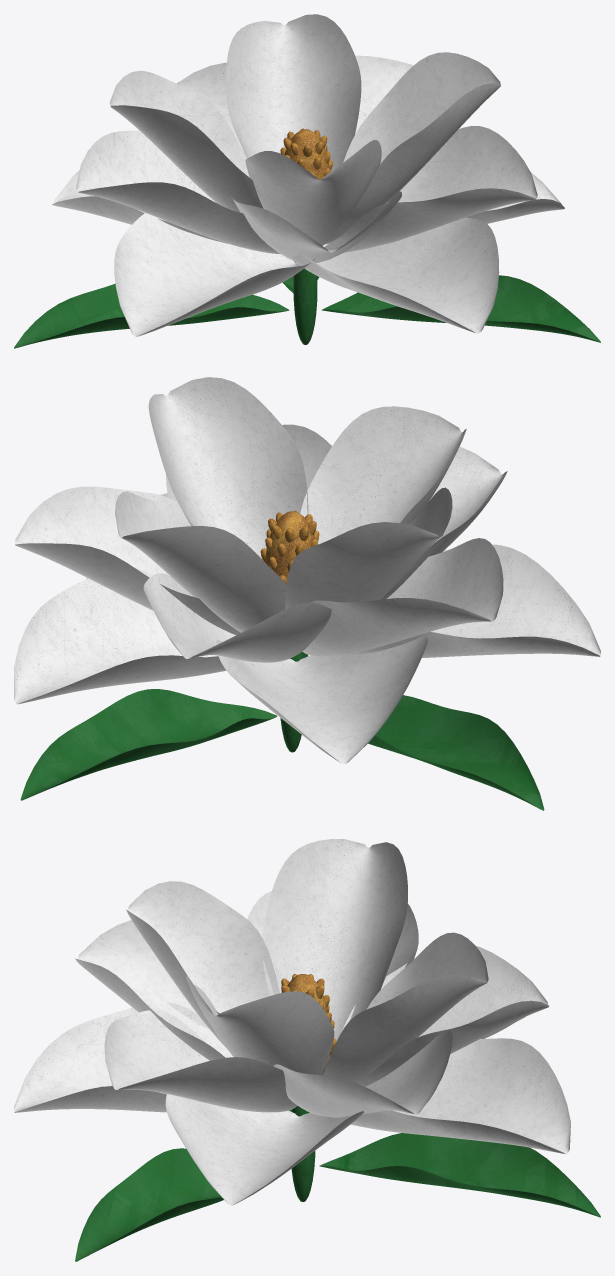
The model's file is asset.glb.
3 renders of one model, top to bottom at view 1: azimuth 30°, elevation 25°; view 2: azimuth 150°, elevation 25°; view 3: azimuth 270°, elevation 25°, orthographic. The views are drawn at different scales.
Parts seen in each view (by area): view 1: Pétalo_n3d14, Pétalo_n3d3, Pétalo_n3d2, Pétalo_n3d11, Pétalo_n3d6, Pétalo_n3d13, Pétalo_n3d8, Pétalo_n3d12, Hoja_n3d, Hoja_n3d2, Pétalo_n3d7, Pétalo_n3d10 (+5 smaller); view 2: Pétalo_n3d11, Pétalo_n3d5, Pétalo_n3d12, Pétalo_n3d4, Pétalo_n3d8, Hoja_n3d3, Pétalo_n3d14, Pétalo_n3d10, Pétalo_n3d3, Pétalo_n3d13, Hoja_n3d2, Pétalo_n3d9 (+3 smaller); view 3: Pétalo_n3d13, Pétalo_n3d5, Pétalo_n3d12, Pétalo_n3d6, Pétalo_n3d, Hoja_n3d3, Pétalo_n3d14, Pétalo_n3d2, Pétalo_n3d11, Hoja_n3d, Pétalo_n3d7, Pétalo_n3d10 (+3 smaller).
Part boxes in pixels (<box>): Pétalo_n3d14: <box>226,14,361,171</box>; Pétalo_n3d3: <box>114,213,315,336</box>; Pétalo_n3d2: <box>289,217,499,333</box>; Pétalo_n3d11: <box>324,52,500,244</box>; Pétalo_n3d6: <box>324,126,537,252</box>; Pétalo_n3d13: <box>109,70,263,212</box>; Pétalo_n3d8: <box>76,130,279,253</box>; Pétalo_n3d12: <box>245,140,381,245</box>; Hoja_n3d: <box>322,275,600,342</box>; Hoja_n3d2: <box>14,283,289,348</box>; Pétalo_n3d7: <box>232,191,401,262</box>; Pétalo_n3d10: <box>283,55,413,148</box>; Pétalo_n3d11: <box>148,377,308,558</box>; Pétalo_n3d5: <box>14,568,225,704</box>; Pétalo_n3d12: <box>300,406,466,544</box>; Pétalo_n3d4: <box>215,635,427,764</box>; Pétalo_n3d8: <box>302,538,503,656</box>; Hoja_n3d3: <box>20,689,276,800</box>; Pétalo_n3d14: <box>115,491,286,632</box>; Pétalo_n3d10: <box>15,486,240,635</box>; Pétalo_n3d3: <box>344,544,600,657</box>; Pétalo_n3d13: <box>285,487,452,609</box>; Hoja_n3d2: <box>368,695,544,810</box>; Pétalo_n3d9: <box>143,573,331,662</box>; Pétalo_n3d13: <box>262,839,407,1041</box>; Pétalo_n3d5: <box>329,1038,570,1154</box>; Pétalo_n3d12: <box>126,881,279,1048</box>; Pétalo_n3d6: <box>104,1010,297,1112</box>; Pétalo_n3d: <box>165,1094,363,1205</box>; Hoja_n3d3: <box>319,1133,600,1217</box>; Pétalo_n3d14: <box>323,932,488,1082</box>; Pétalo_n3d2: <box>14,1002,209,1112</box>; Pétalo_n3d11: <box>186,976,334,1074</box>; Hoja_n3d: <box>75,1148,223,1261</box>; Pétalo_n3d7: <box>75,920,233,1060</box>; Pétalo_n3d10: <box>274,1030,452,1116</box>.
Size of the model in its own units: 0.2752 by 0.1475 by 0.2739.
Materials: 3 (3 with a texture image).
